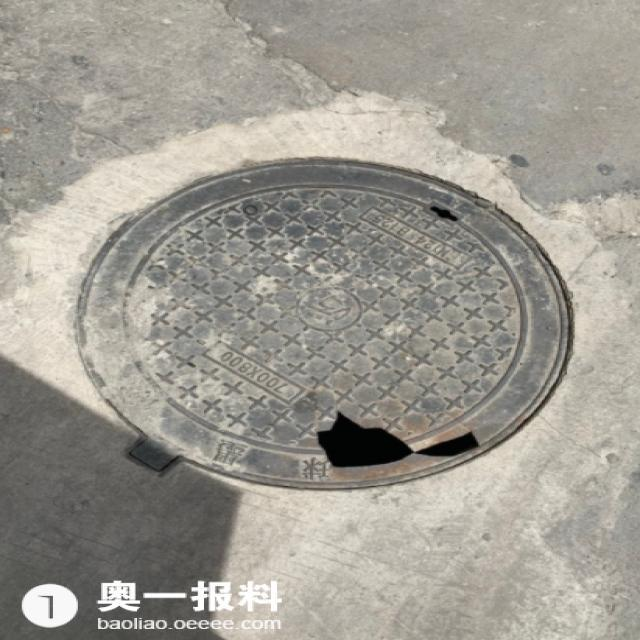manhole: (71, 157, 575, 494)
